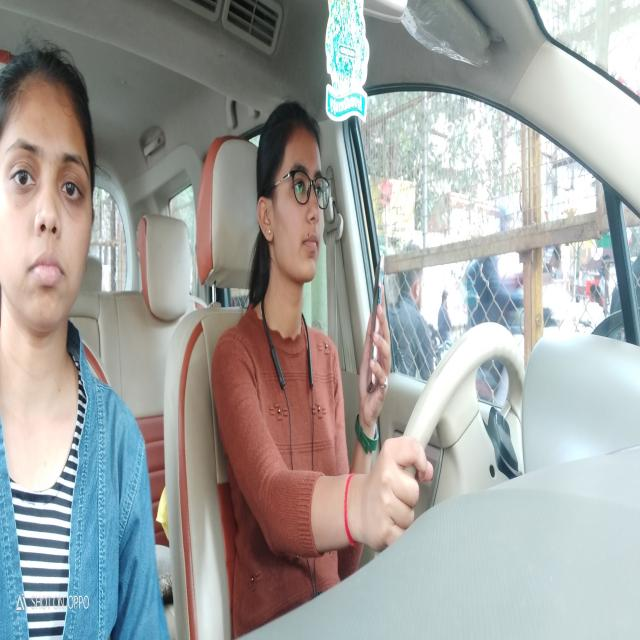mobile: (359, 244, 397, 401)
person: (1, 43, 109, 370), (252, 100, 336, 326)
